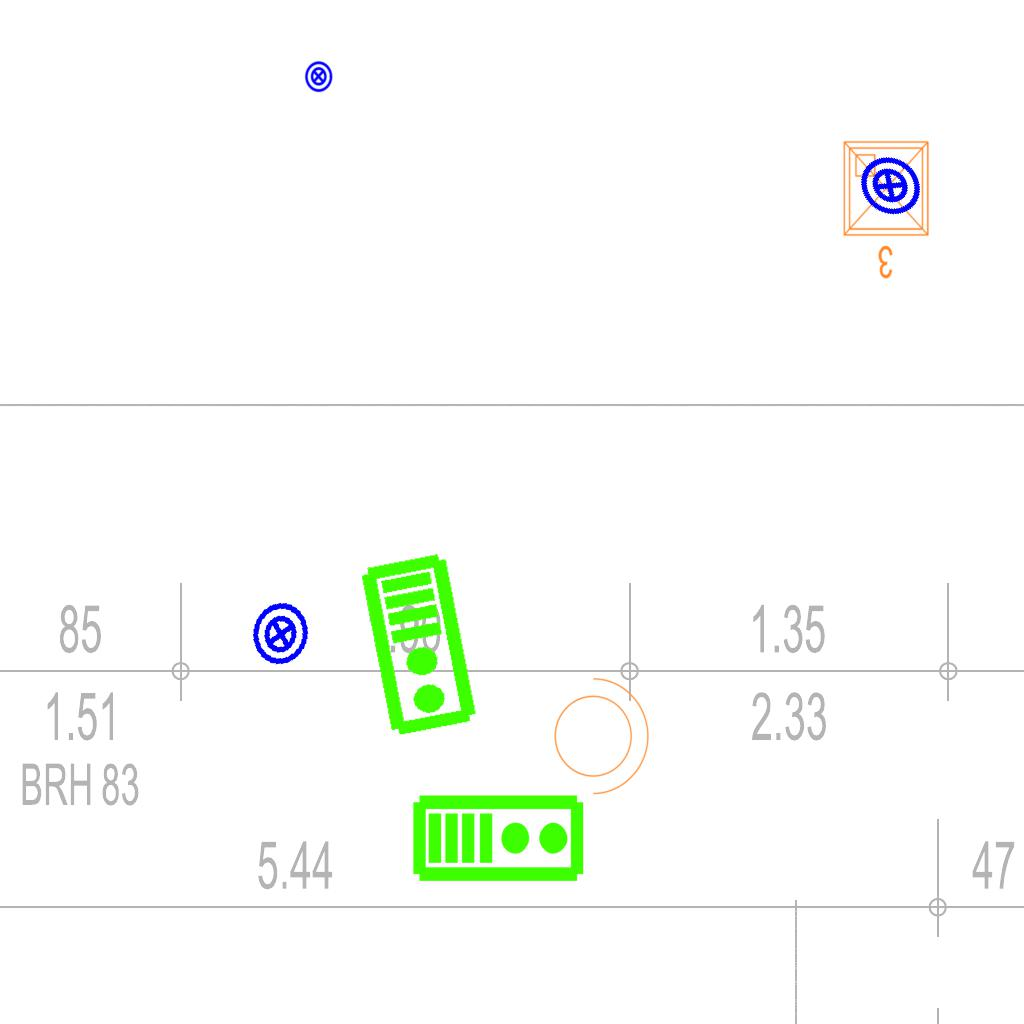Einbaudownlights_LED_Konferenzraeume: (836, 134, 940, 284)
Gegensprechanlage_mit_Video: (357, 549, 484, 741), (411, 789, 587, 884)
Scheinwerfer_fuer_Alarmbeleuchtung: (542, 667, 654, 799)
Taster_beleuchtet: (843, 139, 937, 233), (242, 595, 320, 673), (302, 60, 335, 93)
